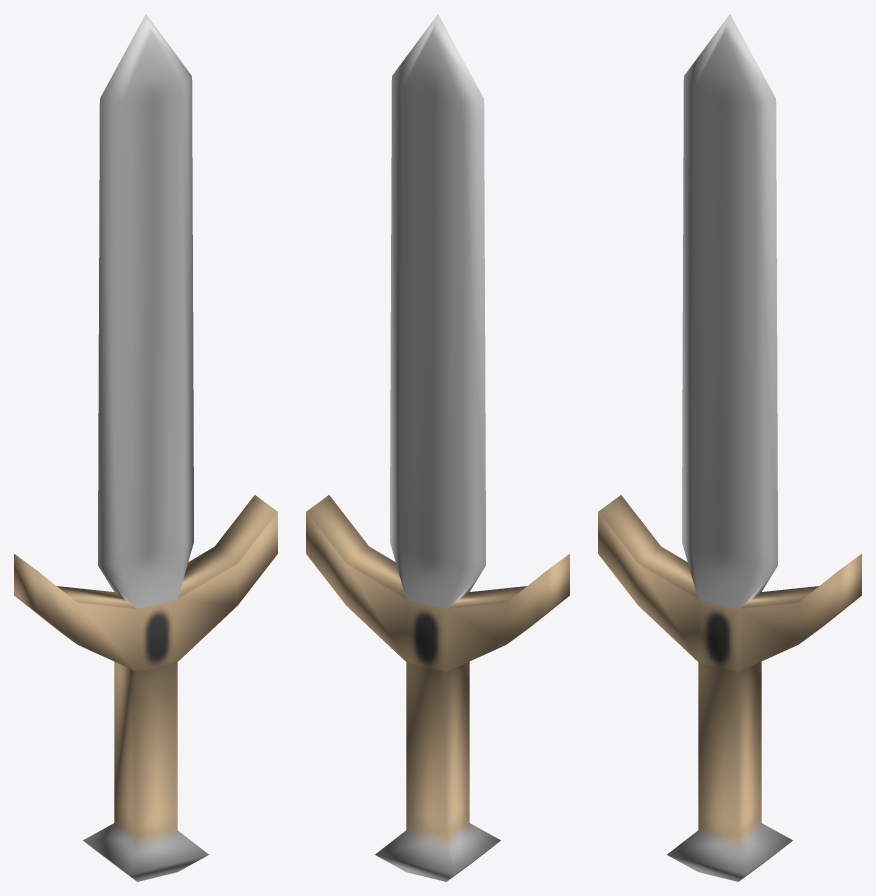
Rendered from sword.glb.
3 renders of one model, left to right at view 1: azimuth 30°, elevation 25°; view 2: azimuth 150°, elevation 25°; view 3: azimuth 330°, elevation 25°, orthographic.
Parts seen in each view (by area): view 1: Sword; view 2: Sword; view 3: Sword.
Part boxes in pixels (x1=…): Sword: x1=14, y1=14, x2=277, y2=881; Sword: x1=306, y1=14, x2=569, y2=881; Sword: x1=598, y1=14, x2=861, y2=881.
Size of the model in its own units: 1.2 by 4.07 by 0.4.
1 material, 1 textured.
